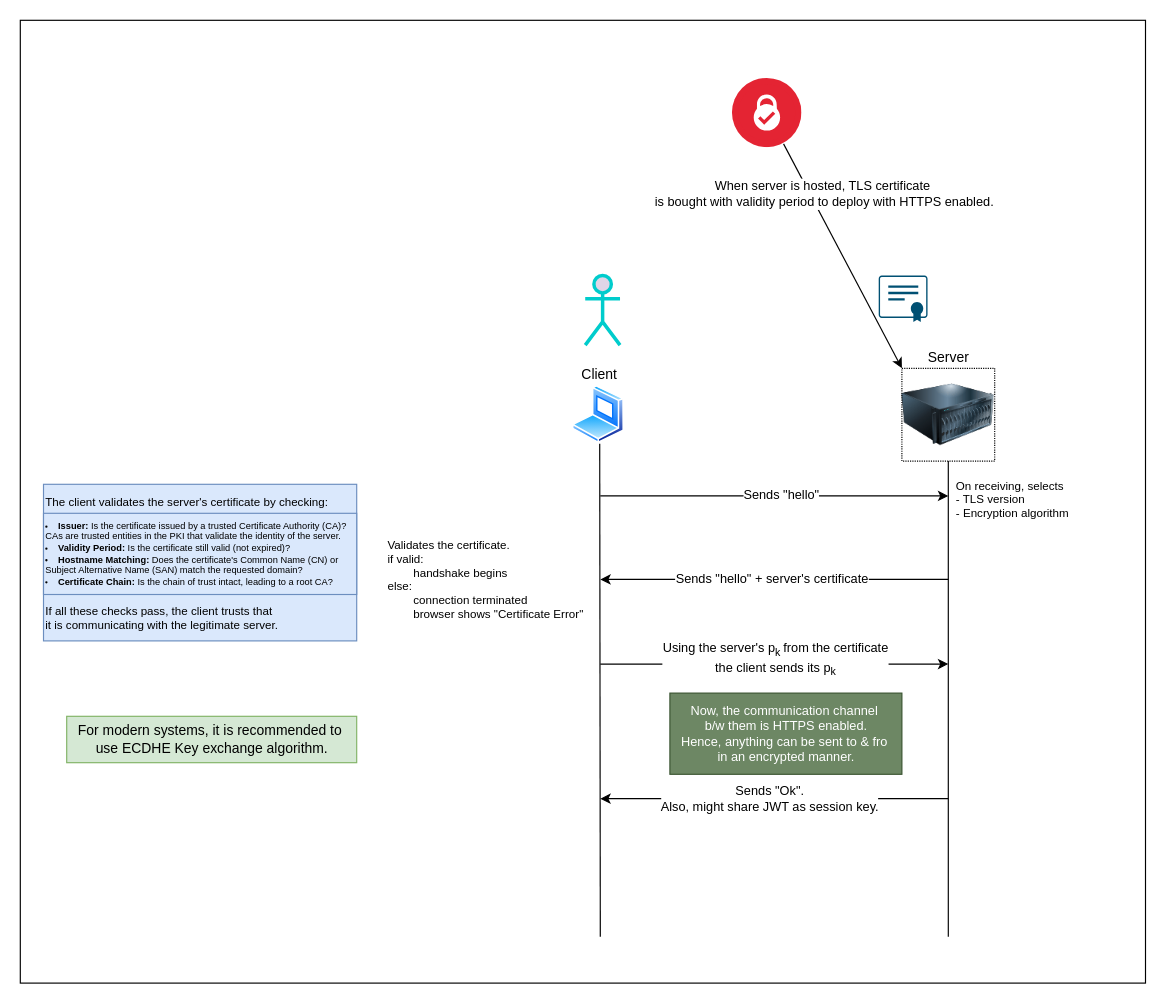
Image size: 1166x1003. Some labels were removed from this diagram. The shapes that lost their labels are listed below. From the top down, each one's centre as x and y in pixels, then its label:
At (767,112): "Certificate Authority (CA)".
At (902,298): "Certificate".
